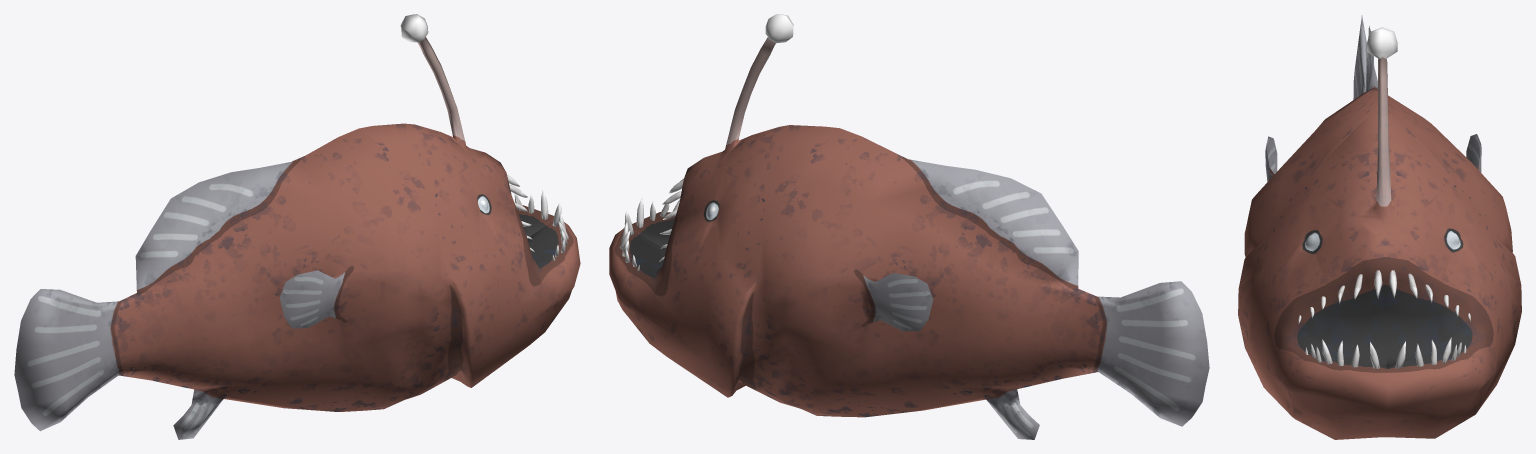
File: AnglerFish00.fbx
The picture shows the model from 3 angles, left to right: view 1: azimuth 30°, elevation 25°; view 2: azimuth 150°, elevation 25°; view 3: azimuth 270°, elevation 25°; orthographic projection. The views are drawn at different scales.
Visible parts, largest first — view 1: AnglerFish.001; view 2: AnglerFish.001; view 3: AnglerFish.001.
Part boxes in pixels (<box>): AnglerFish.001: <box>14,14,580,439</box>; AnglerFish.001: <box>609,14,1209,439</box>; AnglerFish.001: <box>1238,15,1521,439</box>.
Bounding box in the file's own units: 142 × 89.5 × 55.79.
